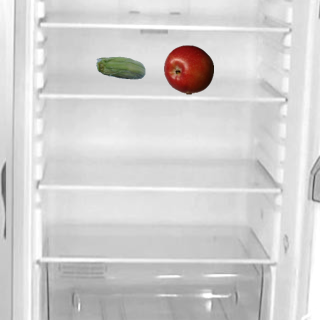Apple Braeburn: (163, 44, 213, 94)
Corn Husk: (95, 44, 145, 94)
